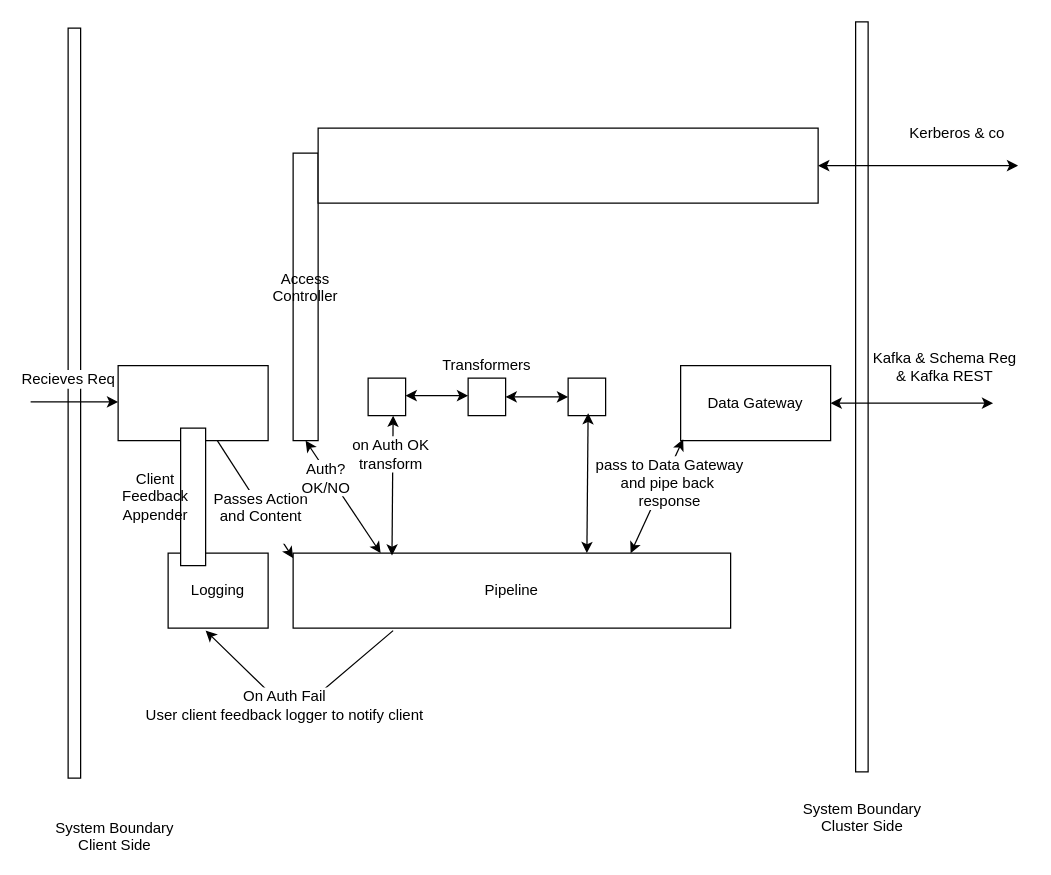
The diagram is 1051 pixels wide and 875 high, and some of its shapes have lost their labels. The shapes that lost their labels are listed below. From the top down, each one's centre as x and y in pixels, then its label:
point (567, 165): Access Util Libs
point (192, 402): Service Endpoint
